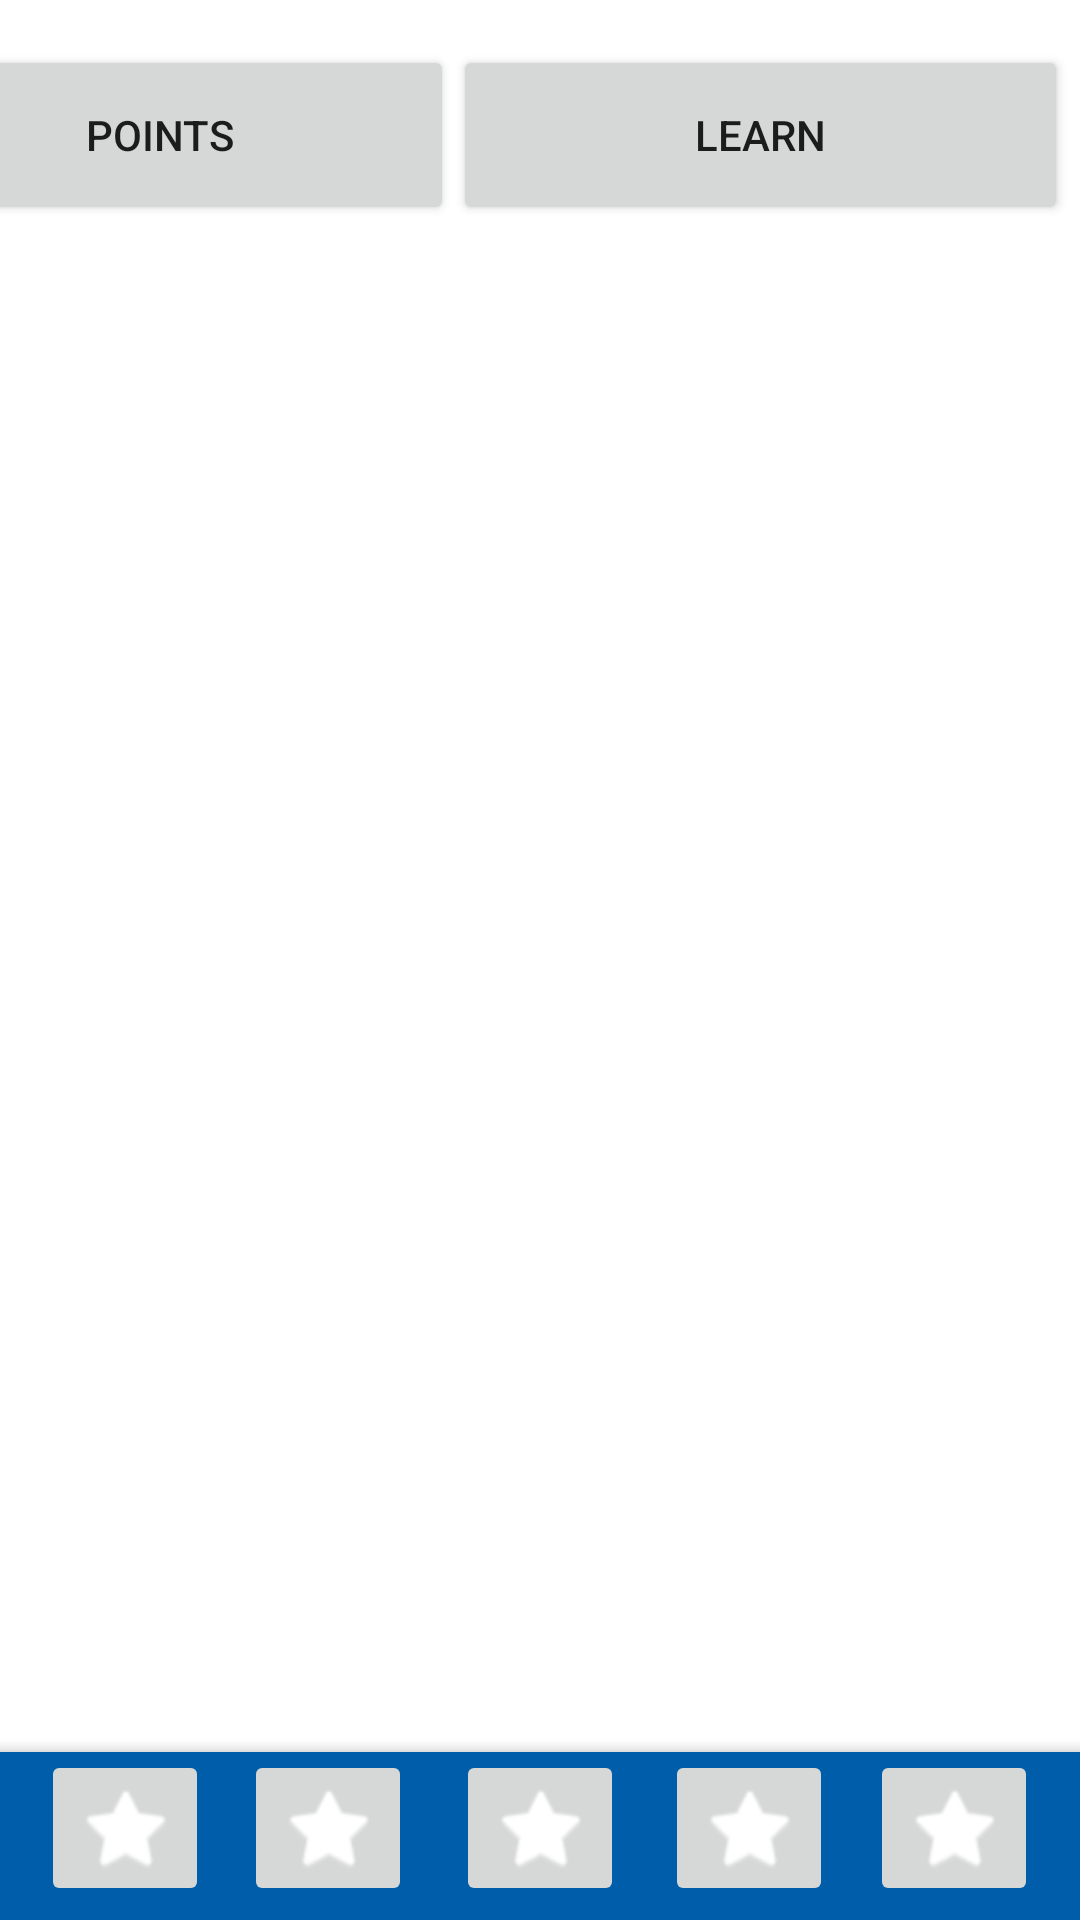

Named icons in this screenshot (1080 x 1920) and their centers, point (x, y):
star on: point (125, 1828), point (328, 1828), point (540, 1828), point (749, 1828), point (954, 1828)
